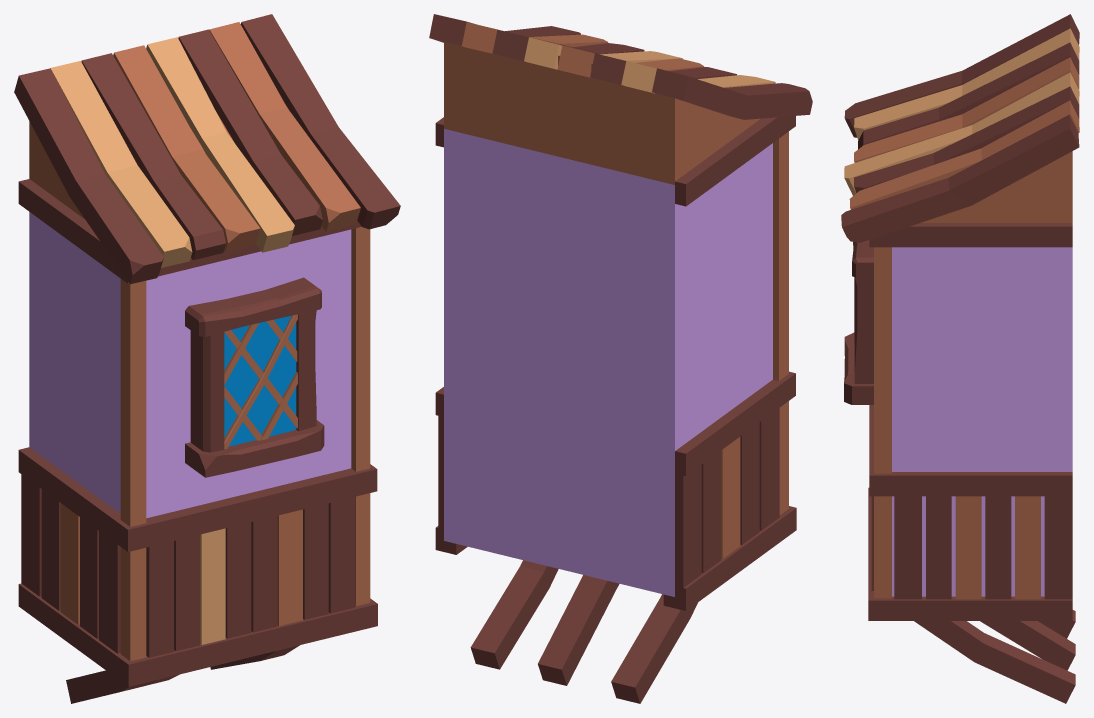
The model's file is Building Addon 01.fbx.
The picture shows the model from 3 angles, left to right: view 1: azimuth 30°, elevation 25°; view 2: azimuth 150°, elevation 25°; view 3: azimuth 270°, elevation 25°; orthographic projection. The views are drawn at different scales.
Visible parts, largest first — view 1: Building Addon 01; view 2: Building Addon 01; view 3: Building Addon 01.
Part boxes in pixels (<box>): Building Addon 01: <box>14,14,400,703</box>; Building Addon 01: <box>429,14,812,703</box>; Building Addon 01: <box>841,14,1079,703</box>.
Size of the model in its own units: 298 by 690 by 252.
